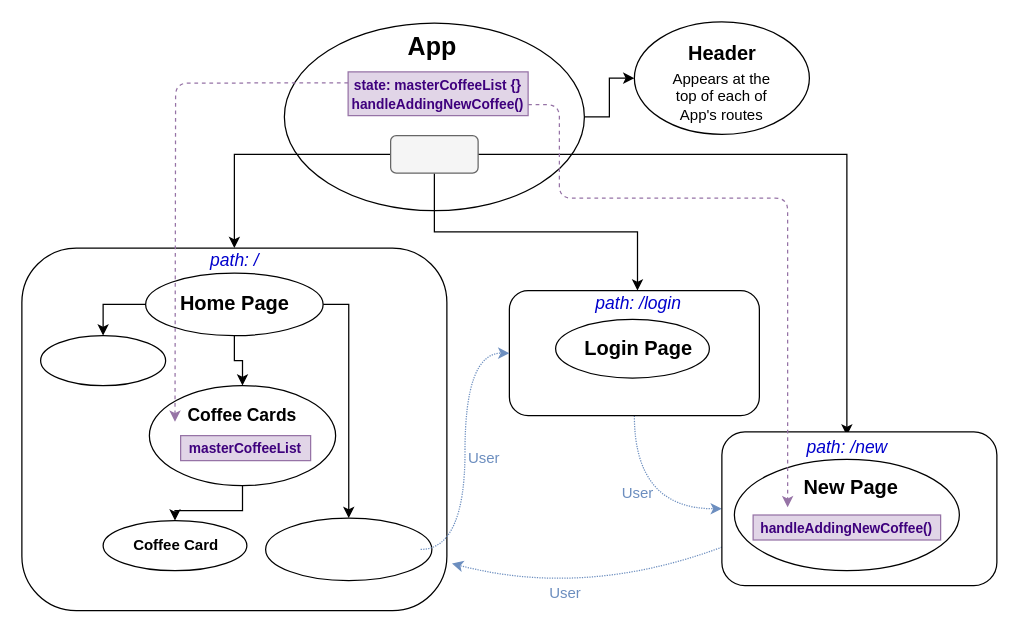
Some shapes in this 1019 by 633 pixel diagram are drawn without their labels. The box of each missing label's shape, as (x1, y1, x2, y2) in pixels:
Coffee Img: (39, 334, 166, 386)
Login Button: (264, 517, 432, 581)
Routes: (389, 134, 478, 173)
